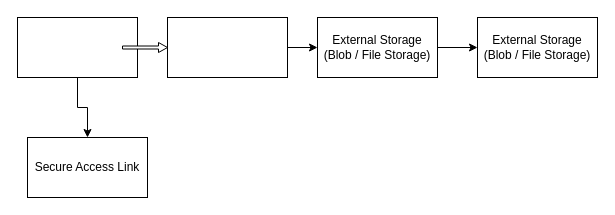
The diagram is 615 pixels wide and 215 high, and some of its shapes have lost their labels. The box of each missing label's shape, as (x1, y1, x2, y2) in pixels:
Attachment Handler (Archival Logic): (166, 16, 288, 78)
CRM System (Case Records): (16, 16, 138, 78)
